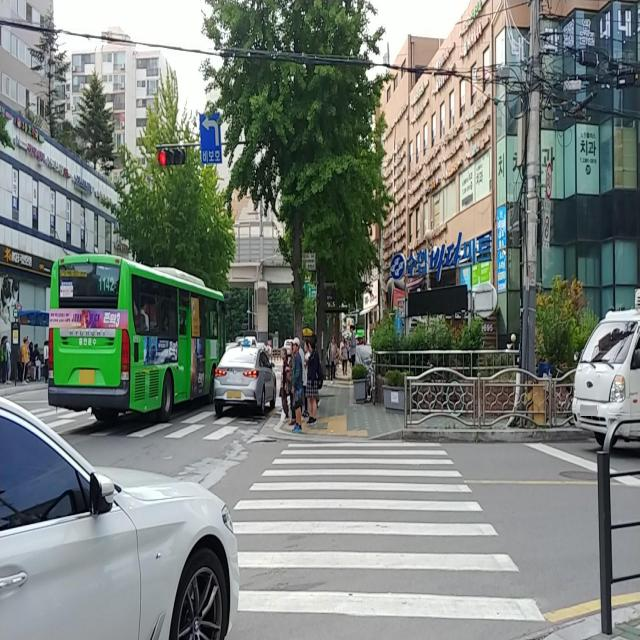횡단보도: (231, 437, 549, 624), (5, 404, 254, 434)
